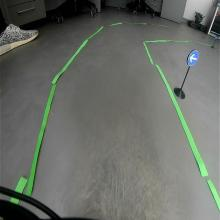left: (187, 48, 199, 68)
